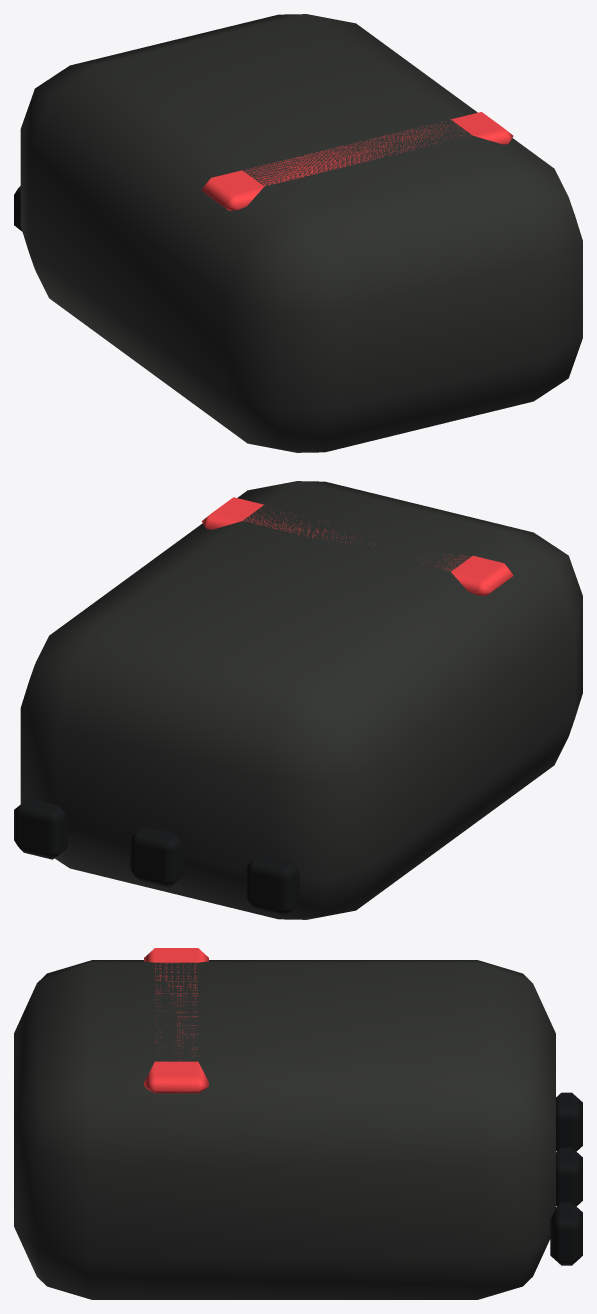
Rendered from Utility_AirMines.fbx.
The picture shows the model from 3 angles, top to bottom: view 1: azimuth 30°, elevation 25°; view 2: azimuth 150°, elevation 25°; view 3: azimuth 270°, elevation 25°; orthographic projection. The views are drawn at different scales.
Parts seen in each view (by area): view 1: Utility_AirMines; view 2: Utility_AirMines; view 3: Utility_AirMines.
Part boxes in pixels (x1,y1,x2,y2): Utility_AirMines: [14, 14, 582, 452]; Utility_AirMines: [14, 481, 582, 919]; Utility_AirMines: [14, 948, 582, 1299].
Bounding box in the file's own units: 0.36 × 0.24 × 0.525.
